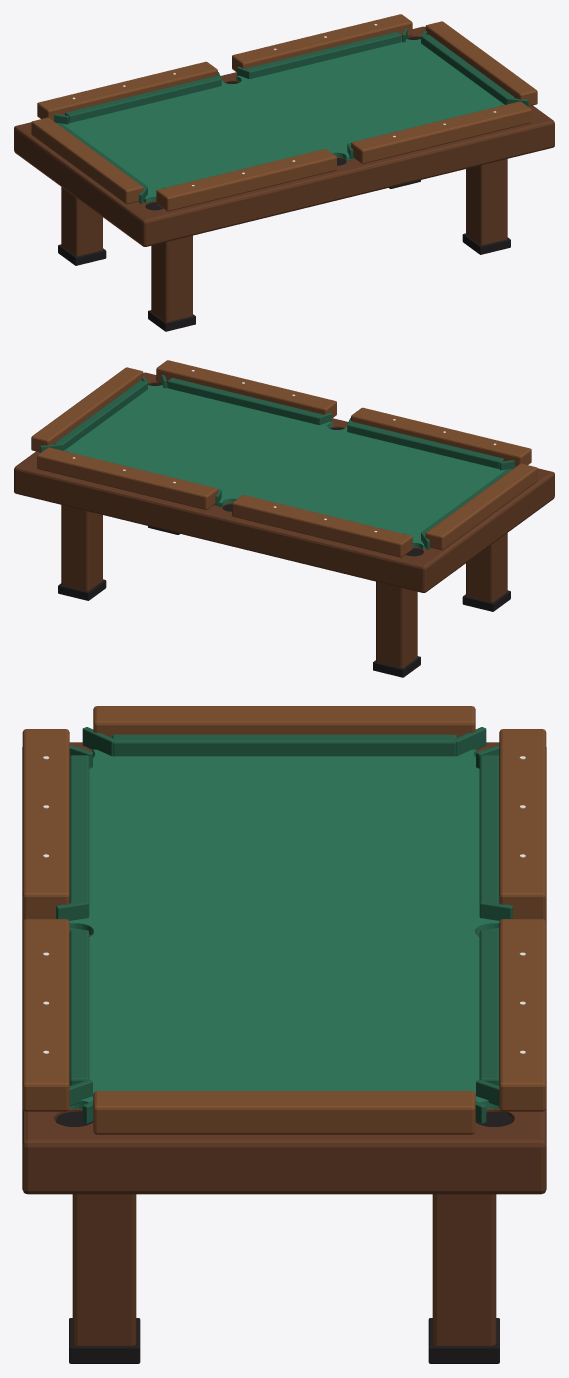
Rendered from table.glb.
The picture shows the model from 3 angles, top to bottom: view 1: azimuth 30°, elevation 25°; view 2: azimuth 150°, elevation 25°; view 3: azimuth 270°, elevation 25°; orthographic projection. The views are drawn at different scales.
Visible parts, largest first — view 1: Table | slate and green cloth, Table | solid walnut cabinet, Long rail, Long rail.001, Table leg.002, Table leg, End rail, Long rail.003, Long rail.002, End rail.001, Table leg.001, Cushion.002 (+5 smaller); view 2: Table | slate and green cloth, Table | solid walnut cabinet, Long rail.002, Long rail.003, Table leg.003, Table leg.001, End rail, Long rail.001, Long rail, End rail.001, Table leg, Cushion (+5 smaller); view 3: Table | slate and green cloth, Table | solid walnut cabinet, End rail.001, End rail, Table leg.002, Table leg.003, Long rail.001, Long rail.003, Long rail, Long rail.002, Cushion.004, Cushion.001 (+5 smaller).
Part boxes in pixels (bbox=[...]): Table | slate and green cloth: bbox=[62, 37, 504, 202]; Table | solid walnut cabinet: bbox=[14, 26, 554, 246]; Long rail: bbox=[156, 149, 336, 211]; Long rail.001: bbox=[351, 101, 531, 163]; Table leg.002: bbox=[466, 159, 507, 245]; Table leg: bbox=[151, 235, 192, 322]; End rail: bbox=[31, 117, 143, 204]; Long rail.003: bbox=[232, 14, 412, 72]; Long rail.002: bbox=[37, 61, 217, 120]; End rail.001: bbox=[425, 21, 537, 106]; Table leg.001: bbox=[61, 187, 102, 256]; Cushion.002: bbox=[65, 75, 221, 122]; Table | slate and green cloth: bbox=[64, 383, 506, 548]; Table | solid walnut cabinet: bbox=[14, 372, 554, 592]; Long rail.002: bbox=[232, 495, 412, 557]; Long rail.003: bbox=[37, 447, 217, 509]; Table leg.003: bbox=[61, 505, 102, 591]; Table leg.001: bbox=[376, 581, 417, 668]; End rail: bbox=[425, 463, 537, 550]; Long rail.001: bbox=[156, 360, 336, 418]; Long rail: bbox=[351, 407, 531, 466]; End rail.001: bbox=[31, 367, 143, 452]; Table leg: bbox=[466, 533, 507, 602]; Cushion: bbox=[347, 421, 503, 468]; Table | slate and green cloth: bbox=[69, 749, 499, 1108]; Table | solid walnut cabinet: bbox=[22, 742, 546, 1194]; End rail.001: bbox=[93, 1091, 475, 1134]; End rail: bbox=[93, 706, 475, 737]; Table leg.002: bbox=[72, 1194, 136, 1345]; Table leg.003: bbox=[432, 1194, 496, 1345]; Long rail.001: bbox=[22, 919, 69, 1111]; Long rail.003: bbox=[499, 919, 546, 1111]; Long rail: bbox=[22, 729, 69, 919]; Long rail.002: bbox=[499, 729, 546, 919]; Cushion.004: bbox=[112, 734, 456, 756]; Cushion.001: bbox=[69, 931, 89, 1085].
Size of the model in its own units: 2.54 by 0.857 by 1.4.
